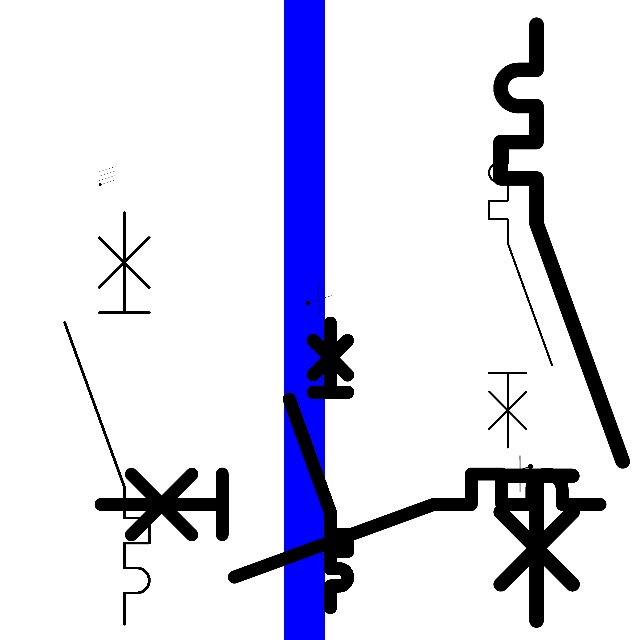interruptor_termomagnetico: (485, 9, 638, 636), (88, 461, 613, 589), (54, 202, 160, 635), (481, 132, 560, 456), (282, 315, 355, 614)
